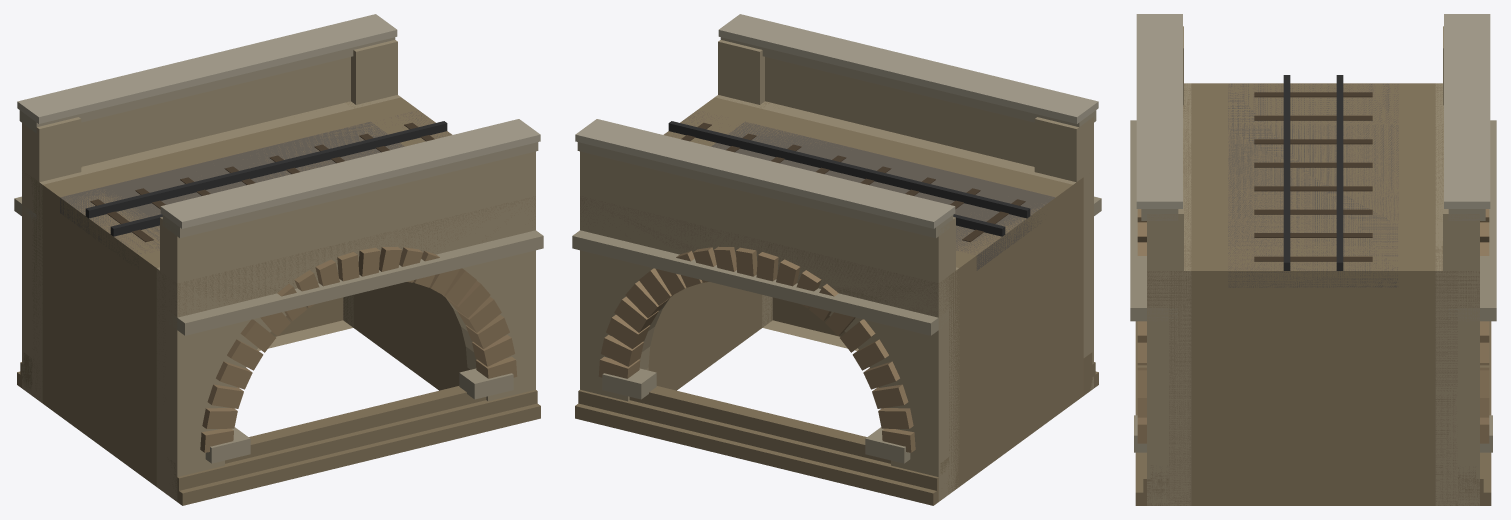
Rendered from rail_viaduct_arch_unit.glb.
3 renders of one model, left to right at view 1: azimuth 30°, elevation 25°; view 2: azimuth 150°, elevation 25°; view 3: azimuth 270°, elevation 25°, orthographic. The views are drawn at different scales.
Parts seen in each view (by area): view 1: rail_viaduct_arch_unit; view 2: rail_viaduct_arch_unit; view 3: rail_viaduct_arch_unit.
Boxes of the visible parts, x1=… form: rail_viaduct_arch_unit: x1=14, y1=14, x2=543, y2=505; rail_viaduct_arch_unit: x1=572, y1=14, x2=1101, y2=505; rail_viaduct_arch_unit: x1=1130, y1=14, x2=1496, y2=505.
Size of the model in its own units: 12 by 9.07 by 9.9.
